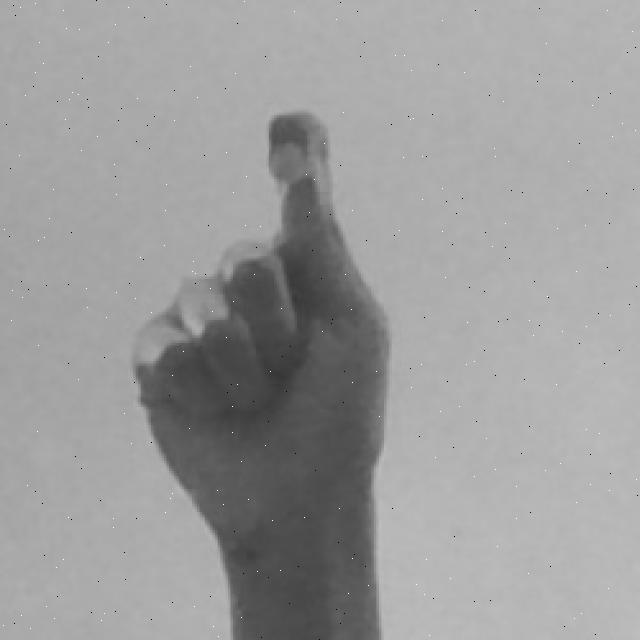T: (127, 105, 398, 640)
